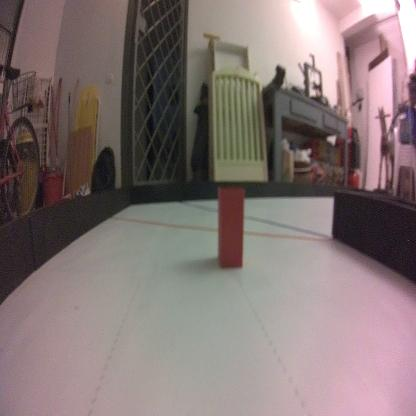red: (216, 182, 246, 272)
